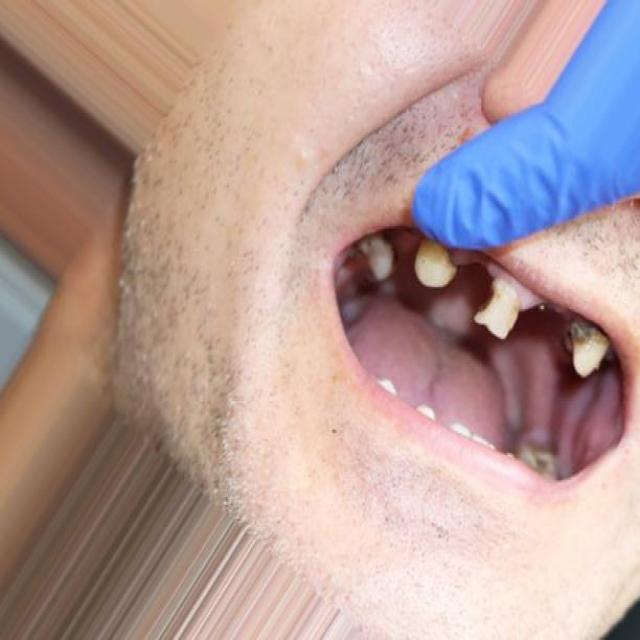caries: (472, 267, 525, 347), (356, 227, 397, 286)
